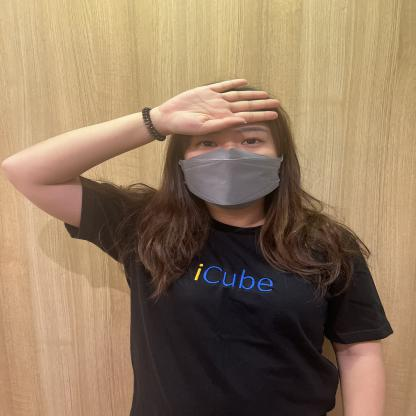Sick: (50, 49, 291, 148)
